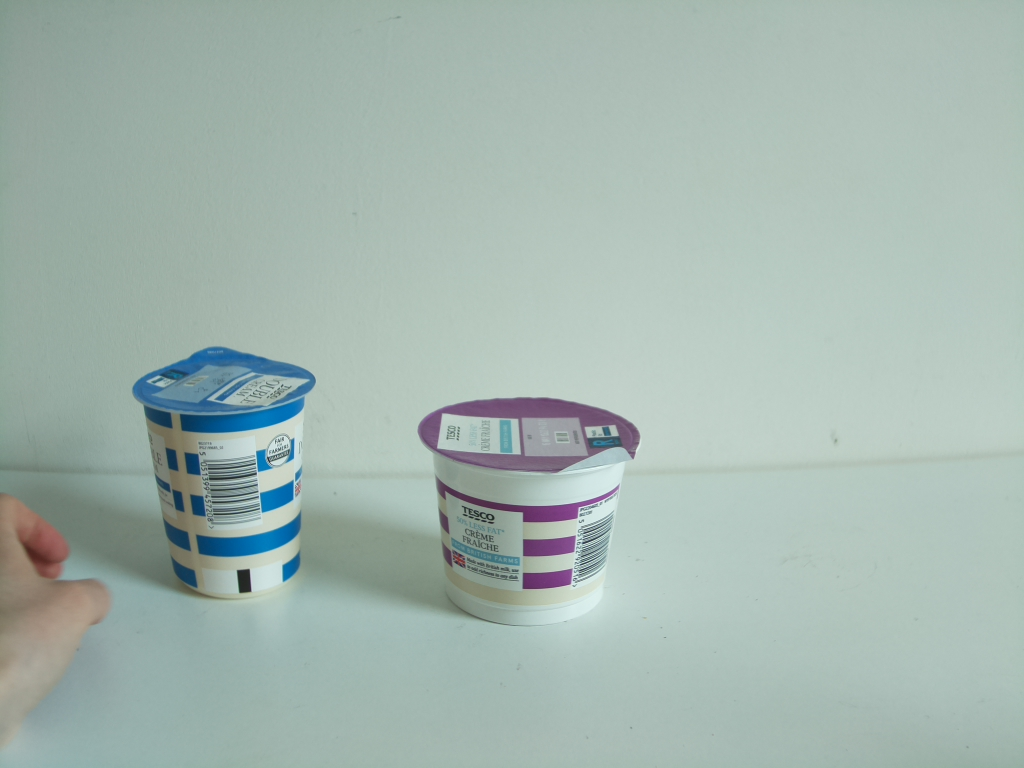cream: (419, 396, 642, 628), (131, 347, 317, 598)
